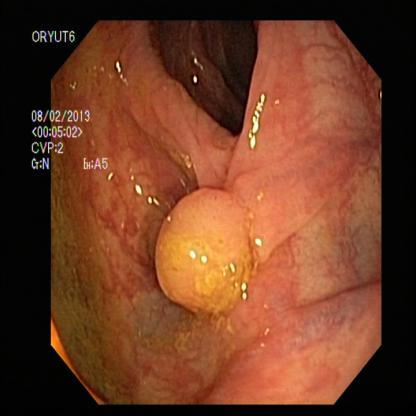Labels: (25, 104, 119, 192), (31, 16, 87, 70)
Polyps: (143, 192, 269, 318)
